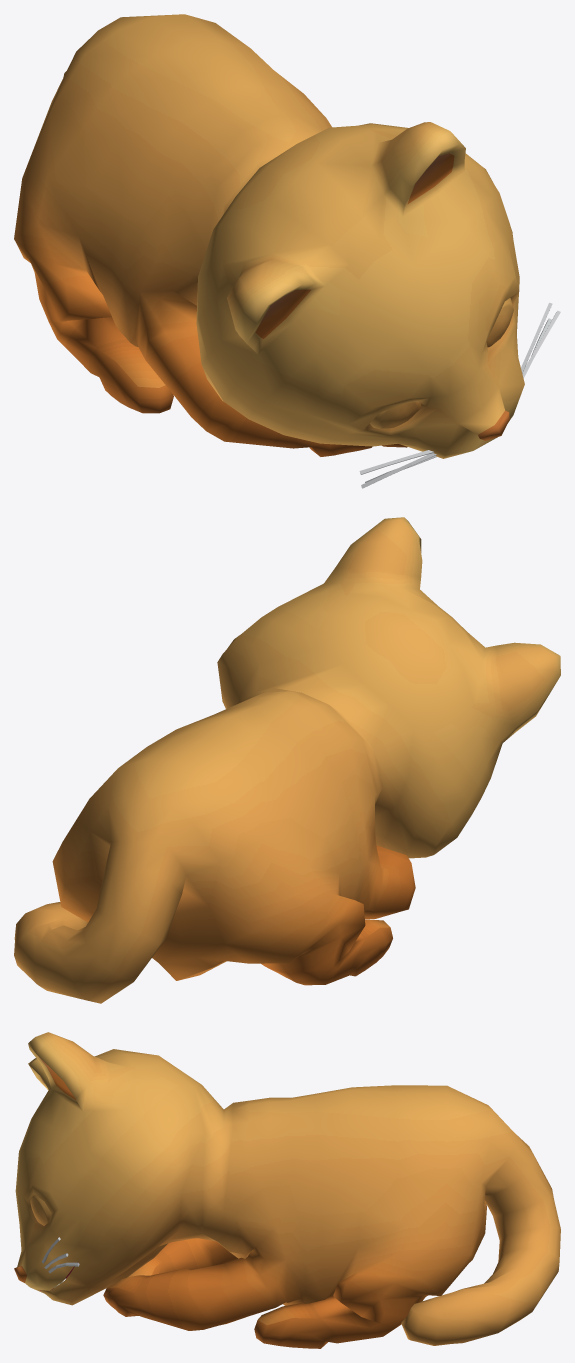
The model's file is Gato (1).fbx.
3 views of the same model, one above another, from view 1: azimuth 30°, elevation 25°; view 2: azimuth 150°, elevation 25°; view 3: azimuth 270°, elevation 25° (orthographic). The views are drawn at different scales.
Visible parts, largest first — view 1: Cat; view 2: Cat; view 3: Cat.
Part boxes in pixels (x1,y1,x2,y2): Cat: (14, 14, 560, 488); Cat: (14, 517, 560, 1003); Cat: (14, 1032, 560, 1348).
Size of the model in its own units: 17.84 by 17.54 by 32.02.
